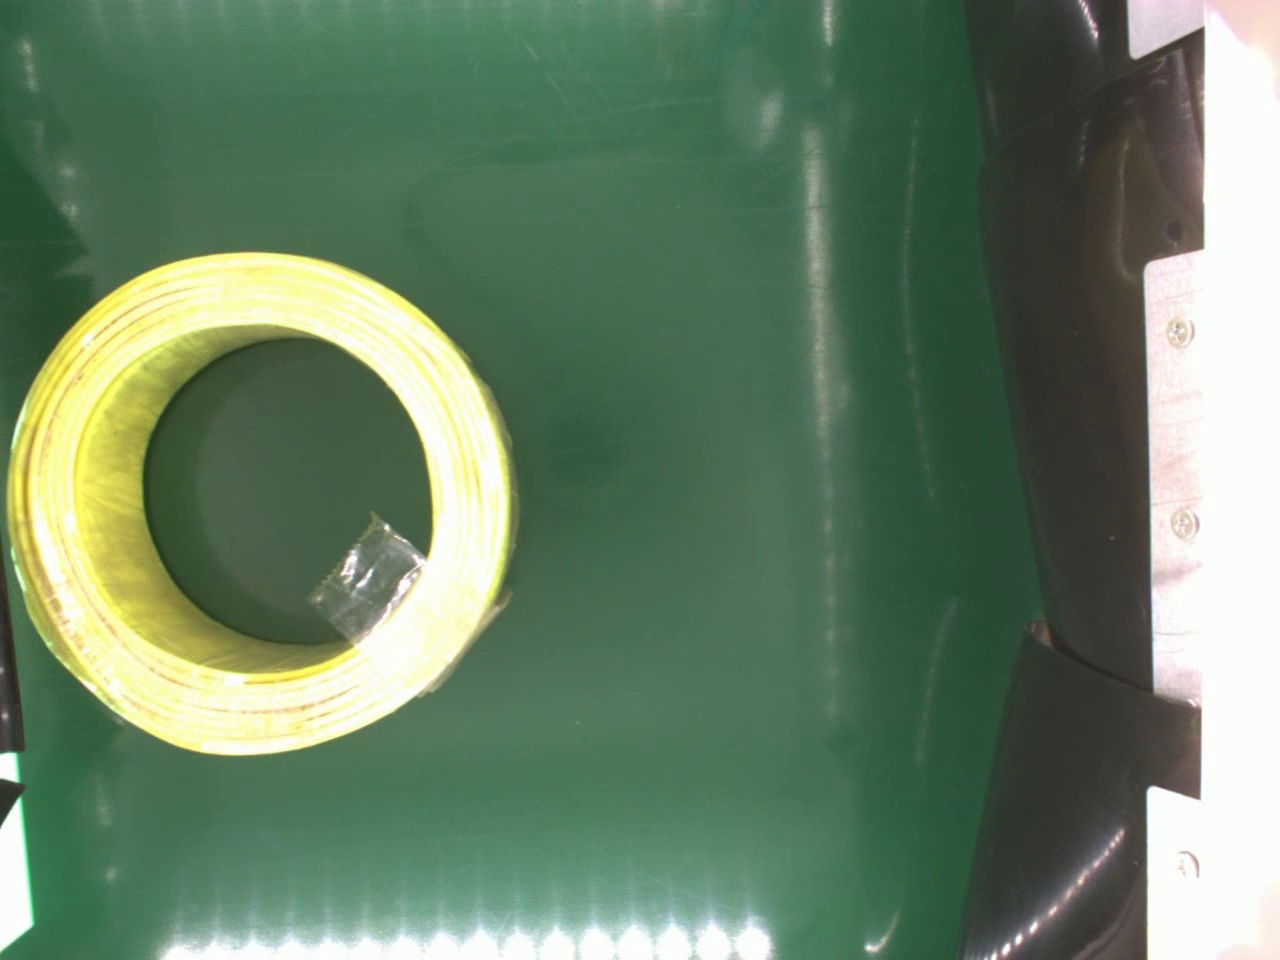yellow: (2, 251, 525, 759)
